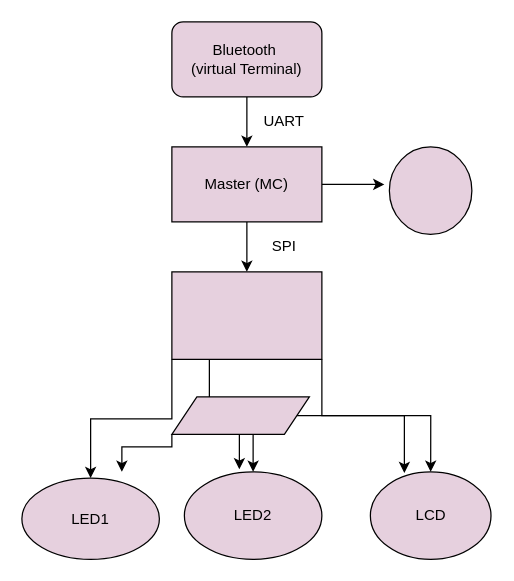
Image size: 514x581. Some labels were removed from this diagram. The box of each missing label's shape, as (x1, y1, x2, y2) in pixels:
Interrupt: (171, 396, 309, 434)
Led: (388, 146, 472, 234)
Slave (MC): (171, 271, 322, 359)
